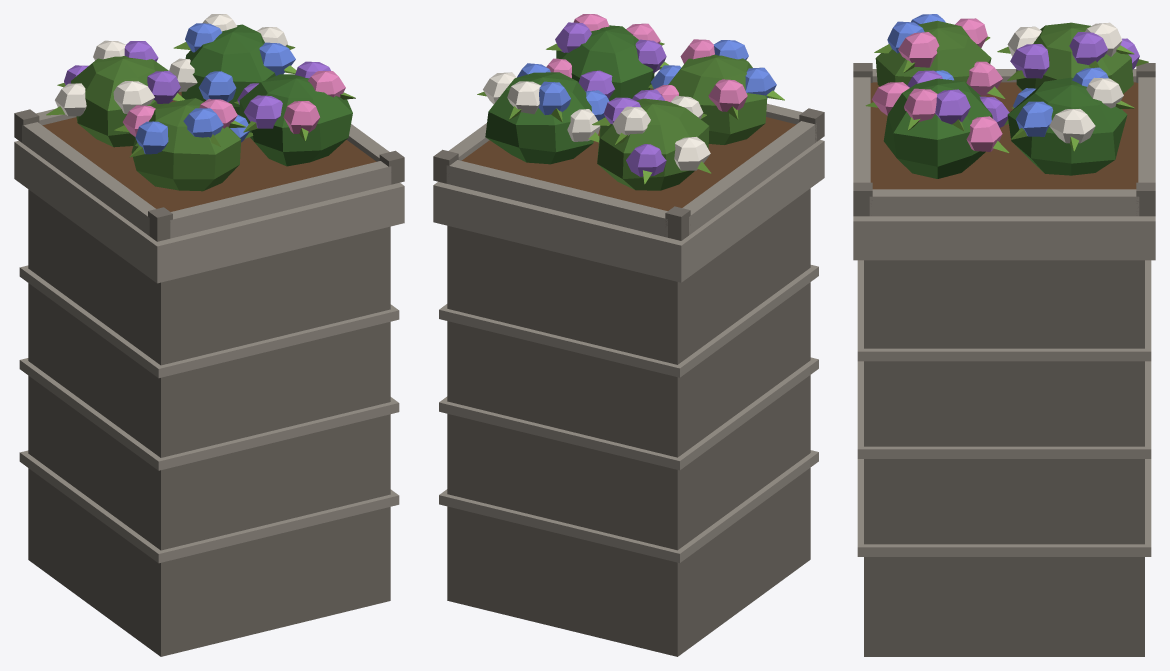
File: decor_hydrangeas.glb
The picture shows the model from 3 angles, left to right: view 1: azimuth 30°, elevation 25°; view 2: azimuth 150°, elevation 25°; view 3: azimuth 270°, elevation 25°; orthographic projection. The views are drawn at different scales.
Parts seen in each view (by area): view 1: decor_hydrangeas; view 2: decor_hydrangeas; view 3: decor_hydrangeas.
Boxes of the visible parts, x1,y1,x2,y2 form: decor_hydrangeas: [14, 14, 404, 656]; decor_hydrangeas: [433, 14, 824, 656]; decor_hydrangeas: [853, 14, 1155, 656].
Size of the model in its own units: 2.8 by 5.6 by 2.8.
